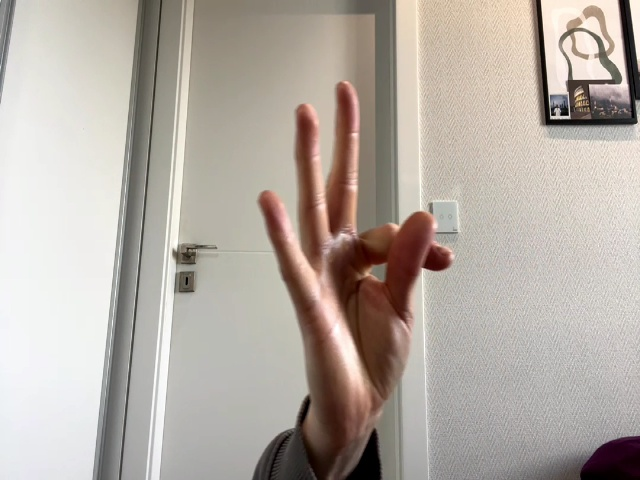T: (259, 82, 455, 430)
